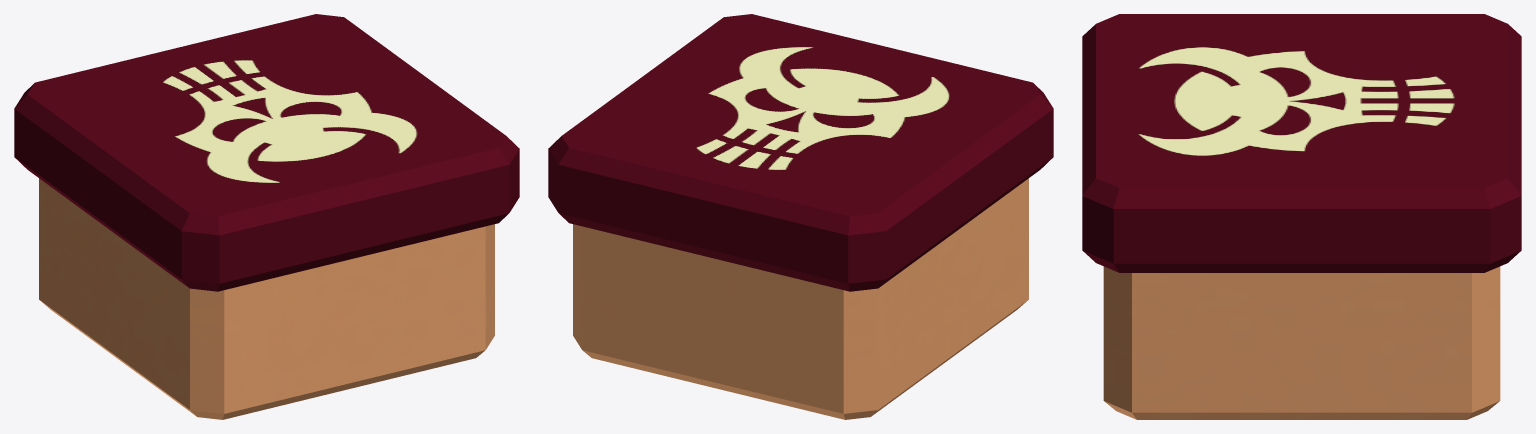
Rendered from M_Battle_Tile.fbx.
3 views of the same model, side by side, from view 1: azimuth 30°, elevation 25°; view 2: azimuth 150°, elevation 25°; view 3: azimuth 270°, elevation 25° (orthographic). The views are drawn at different scales.
Visible parts, largest first — view 1: Map_Battle, Map_Base_BT; view 2: Map_Battle, Map_Base_BT; view 3: Map_Battle, Map_Base_BT.
Part boxes in pixels (x1=…): Map_Battle: x1=14, y1=14, x2=519, y2=291; Map_Base_BT: x1=39, y1=178, x2=494, y2=419; Map_Battle: x1=548, y1=14, x2=1053, y2=291; Map_Base_BT: x1=573, y1=178, x2=1028, y2=419; Map_Battle: x1=1082, y1=14, x2=1521, y2=272; Map_Base_BT: x1=1103, y1=266, x2=1500, y2=419.
Size of the model in its own units: 151 by 91.16 by 151.
Materials: 2 (2 with a texture image).
